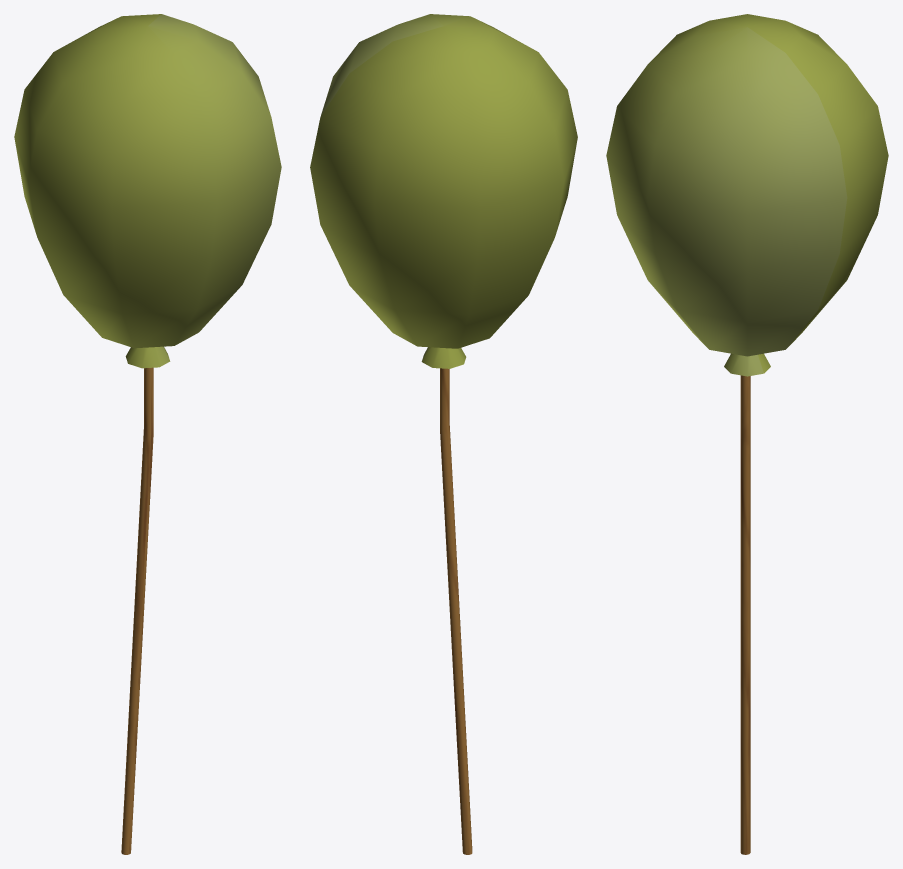
Rendered from Balloon1.fbx.
3 renders of one model, left to right at view 1: azimuth 30°, elevation 25°; view 2: azimuth 150°, elevation 25°; view 3: azimuth 270°, elevation 25°, orthographic.
Parts seen in each view (by area): view 1: polySurface223; view 2: polySurface223; view 3: polySurface223.
Part boxes in pixels (box(x1,y1,x2,y2)): polySurface223: box(14, 14, 281, 854); polySurface223: box(310, 14, 577, 854); polySurface223: box(606, 14, 888, 854).
Size of the model in its own units: 0.4182 by 1.37 by 0.4182.
